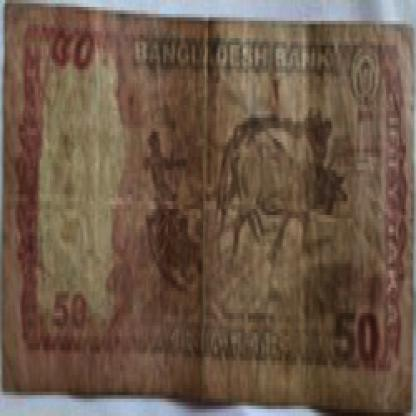Fifty taka: (330, 302, 381, 392), (43, 24, 102, 97)
